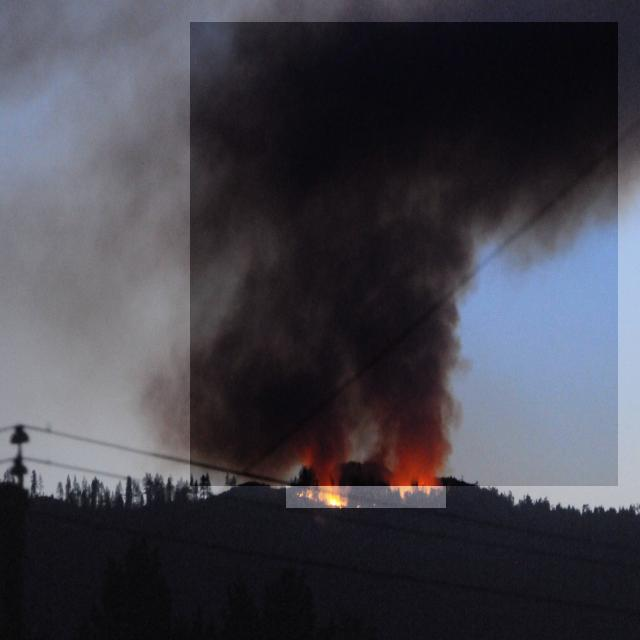Fire: (286, 444, 446, 508)
Smoke: (190, 22, 618, 486)
